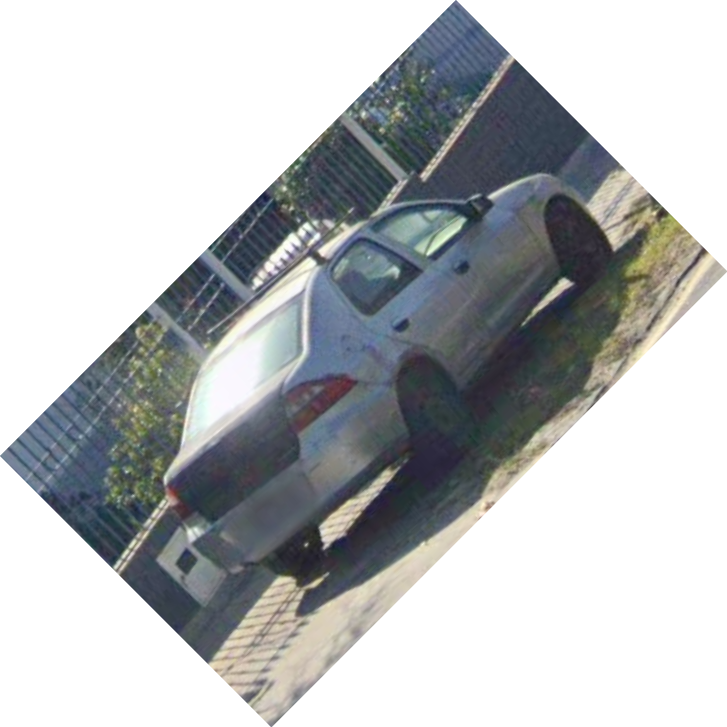car: (161, 171, 616, 580)
